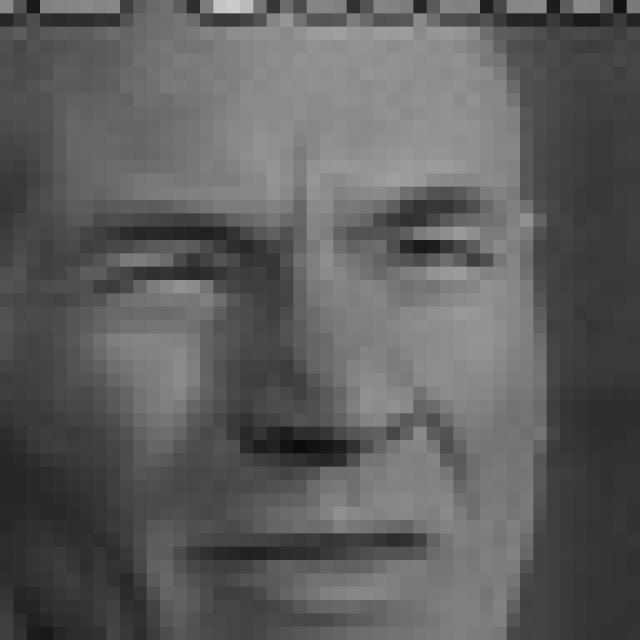disgust: (51, 158, 516, 636)
